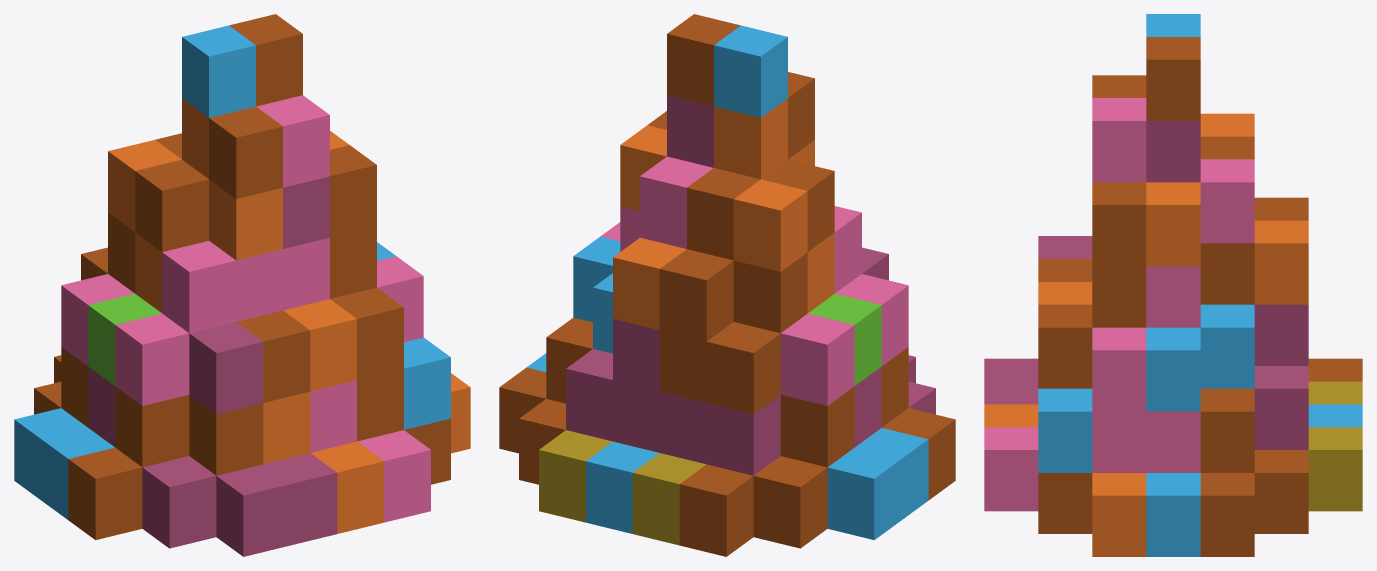
The model's file is DesertStack.obj.
3 views of the same model, side by side, from view 1: azimuth 30°, elevation 25°; view 2: azimuth 150°, elevation 25°; view 3: azimuth 270°, elevation 25° (orthographic).
Visible parts, largest first — view 1: DesertStack; view 2: DesertStack; view 3: DesertStack.
Part boxes in pixels (x1,y1,x2,y2): DesertStack: (14, 14, 470, 556); DesertStack: (499, 14, 955, 556); DesertStack: (984, 14, 1362, 556).
Bounding box in the file's own units: 16 × 17.5 × 14.
